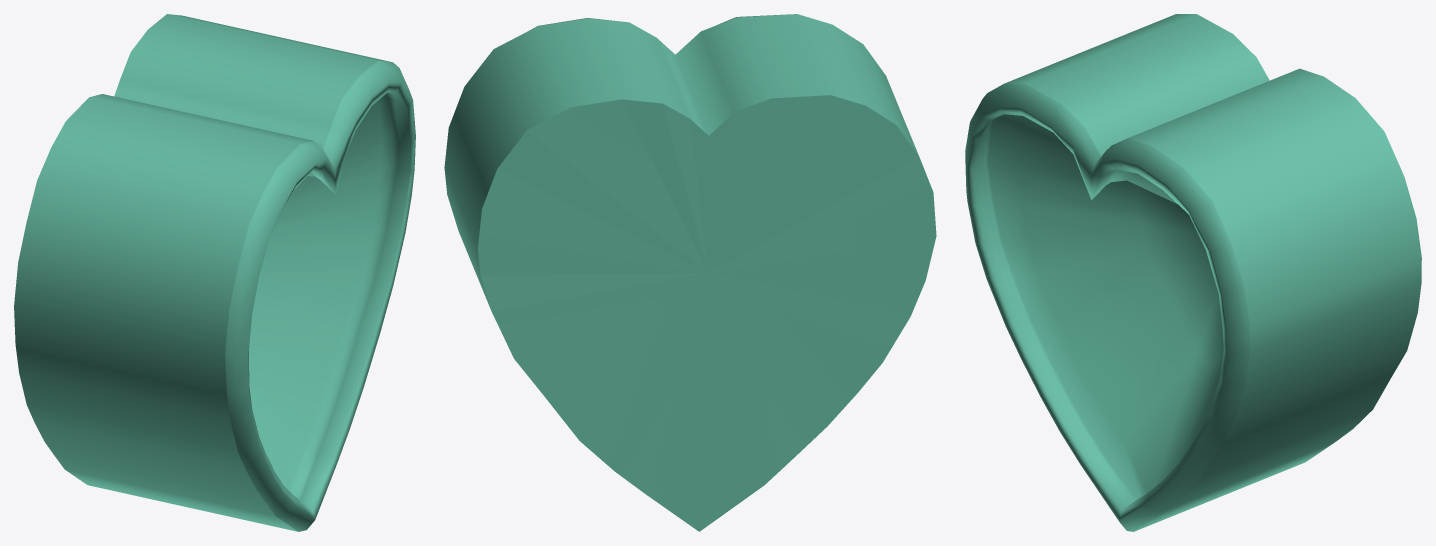
Rendered from BR3_8shapes_heart_Classic_Metal.001 3.glb.
3 renders of one model, left to right at view 1: azimuth 30°, elevation 25°; view 2: azimuth 150°, elevation 25°; view 3: azimuth 270°, elevation 25°, orthographic. The views are drawn at different scales.
Parts seen in each view (by area): view 1: BR3_8shapes_heart_Classic_Metal.001; view 2: BR3_8shapes_heart_Classic_Metal.001; view 3: BR3_8shapes_heart_Classic_Metal.001.
Boxes of the visible parts, x1,y1,x2,y2 form: BR3_8shapes_heart_Classic_Metal.001: (14, 14, 415, 531); BR3_8shapes_heart_Classic_Metal.001: (444, 14, 936, 531); BR3_8shapes_heart_Classic_Metal.001: (965, 14, 1421, 531).
Size of the model in its own units: 0.5605 by 0.5293 by 0.509.
